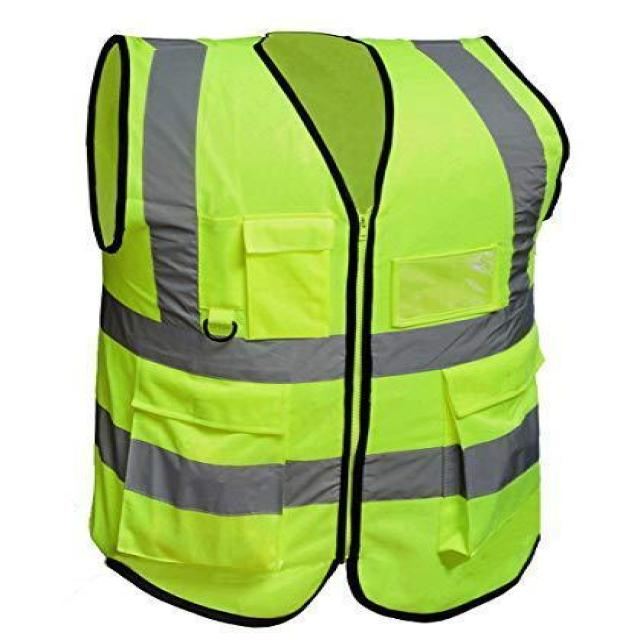Vest: (82, 28, 573, 626)
